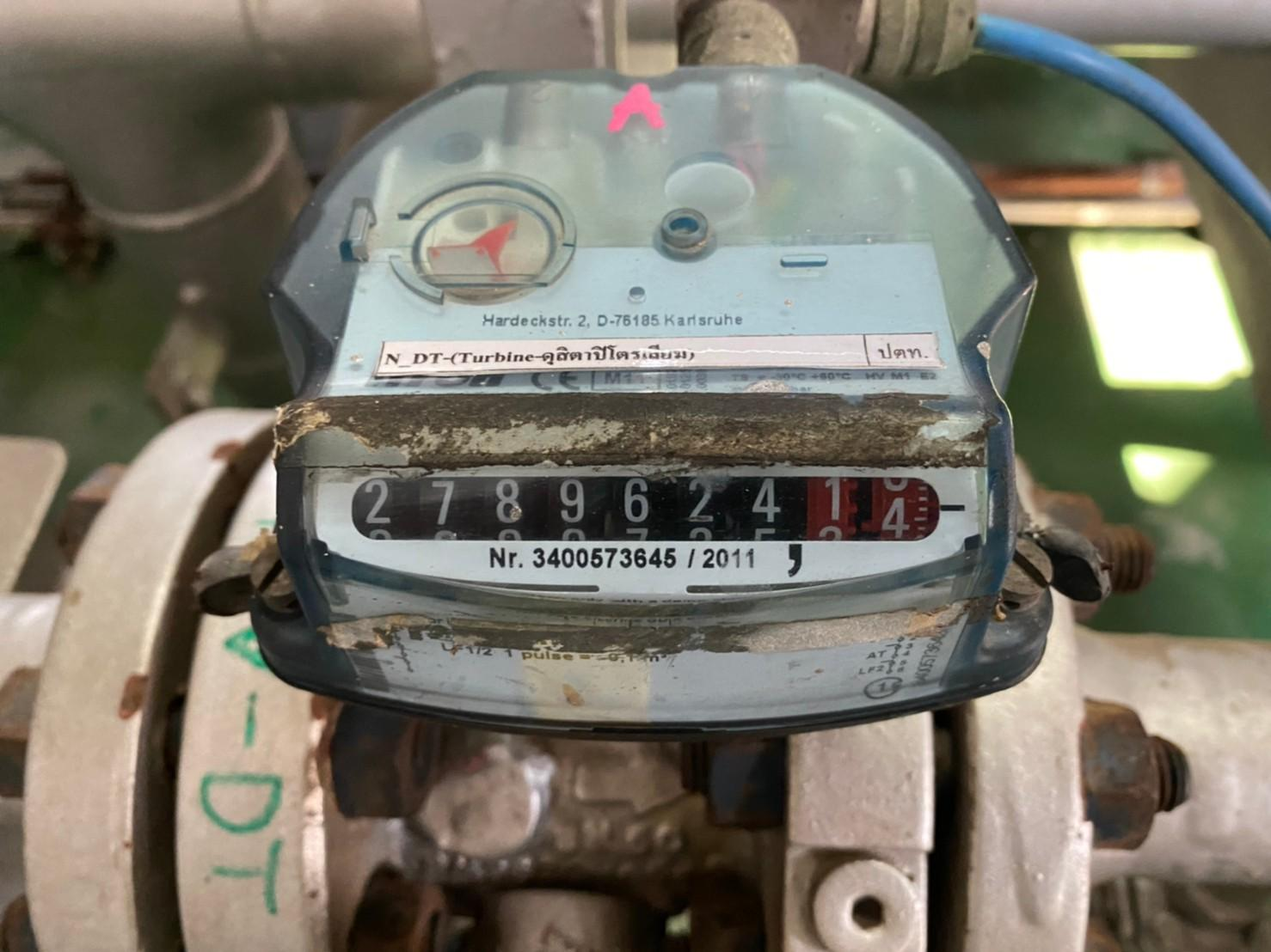analog_dial: (347, 465, 967, 553)
